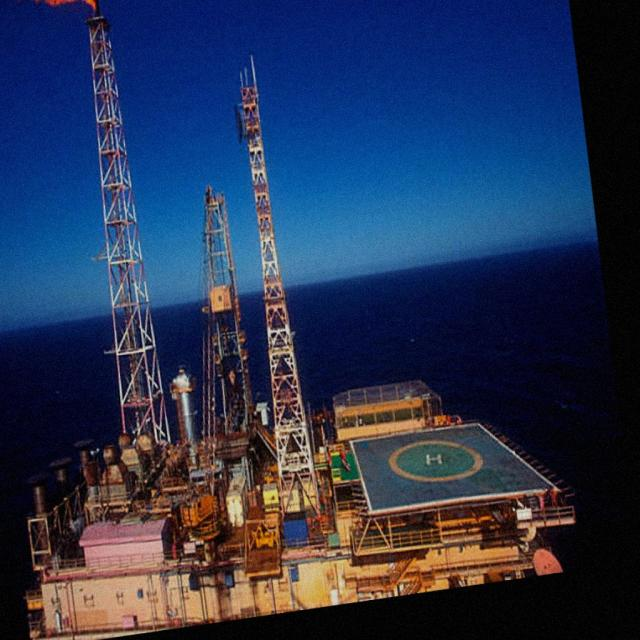helipad: (387, 436, 484, 483)
